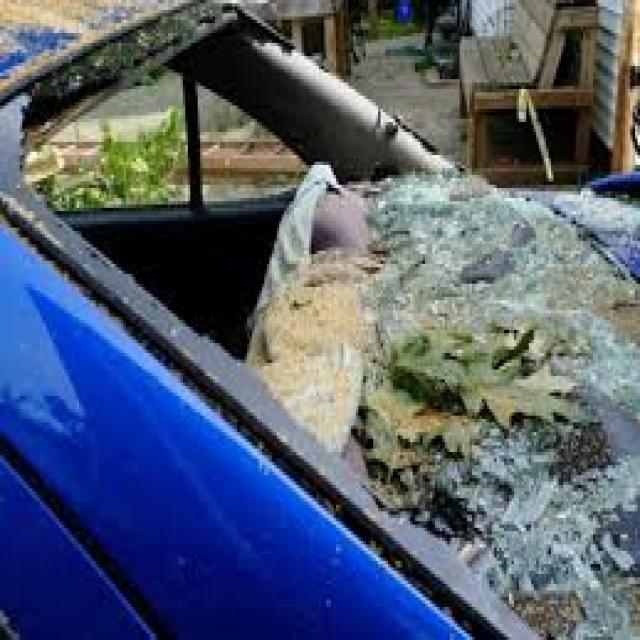minor: (251, 22, 624, 561)
